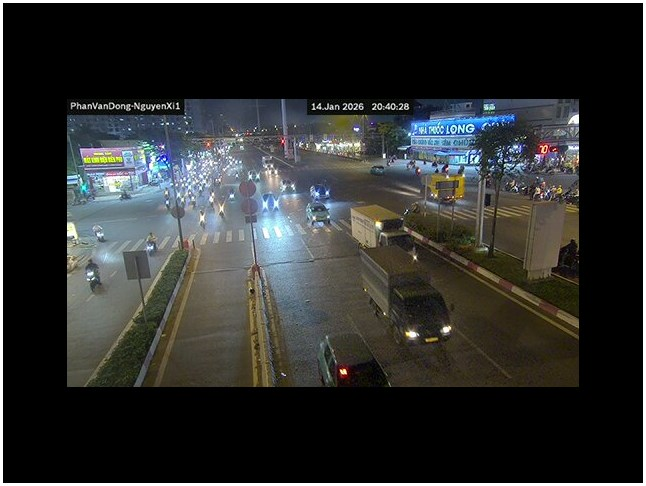car: (317, 331, 390, 386), (305, 200, 352, 229), (306, 201, 330, 229)
truck: (349, 203, 412, 249)
